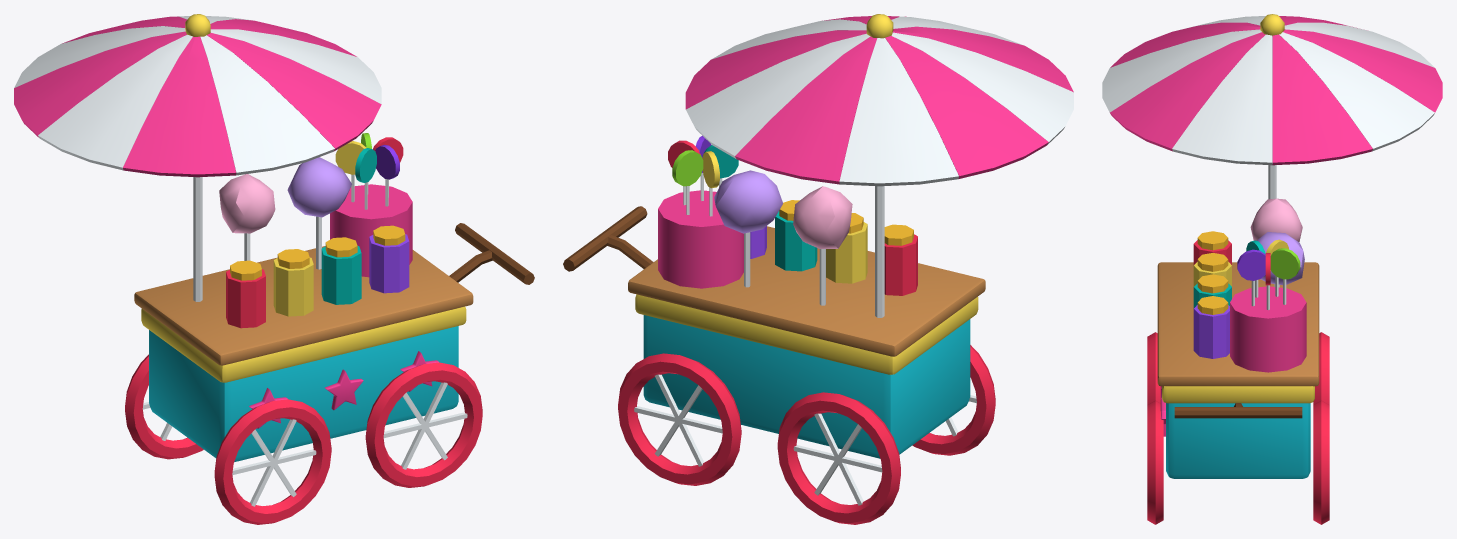
File: lobby_candy_cart.fbx
3 views of the same model, side by side, from view 1: azimuth 30°, elevation 25°; view 2: azimuth 150°, elevation 25°; view 3: azimuth 270°, elevation 25° (orthographic). The views are drawn at different scales.
Visible parts, largest first — view 1: lobby_candy_cart; view 2: lobby_candy_cart; view 3: lobby_candy_cart.
Part boxes in pixels (x1,y1,x2,y2): lobby_candy_cart: (14,14,534,524); lobby_candy_cart: (563,14,1073,524); lobby_candy_cart: (1102,14,1442,524).
Bounding box in the file's own units: 11.16 × 11.17 × 8.
Materials: 1 (1 with a texture image).
